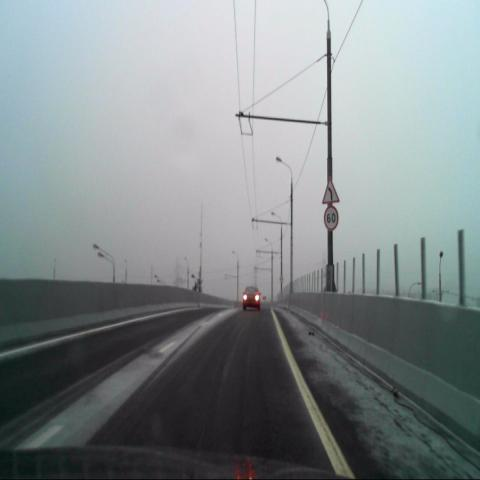3_24: (324, 205, 338, 231)
